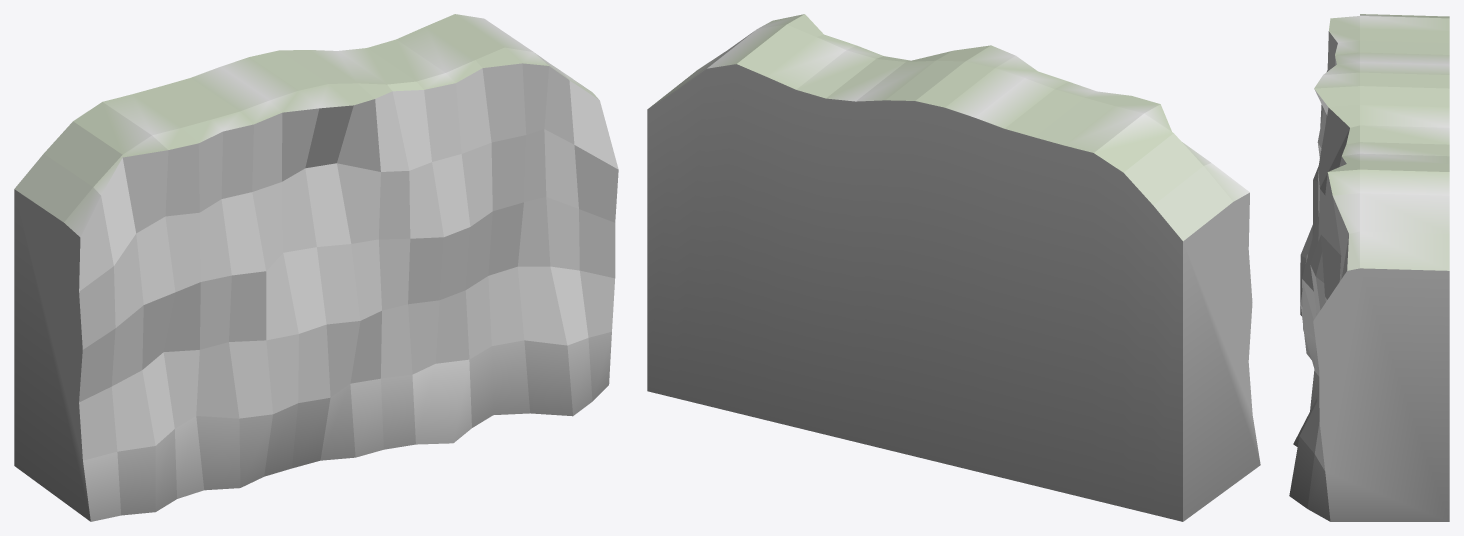
The model's file is cliff_wall.glb.
3 views of the same model, side by side, from view 1: azimuth 30°, elevation 25°; view 2: azimuth 150°, elevation 25°; view 3: azimuth 270°, elevation 25° (orthographic). The views are drawn at different scales.
Visible parts, largest first — view 1: cliff_wall; view 2: cliff_wall; view 3: cliff_wall.
Boxes of the visible parts, x1,y1,x2,y2 form: cliff_wall: (14, 14, 618, 521); cliff_wall: (647, 14, 1260, 521); cliff_wall: (1289, 14, 1449, 521).
Bounding box in the file's own units: 8 × 5.12 × 2.33.
